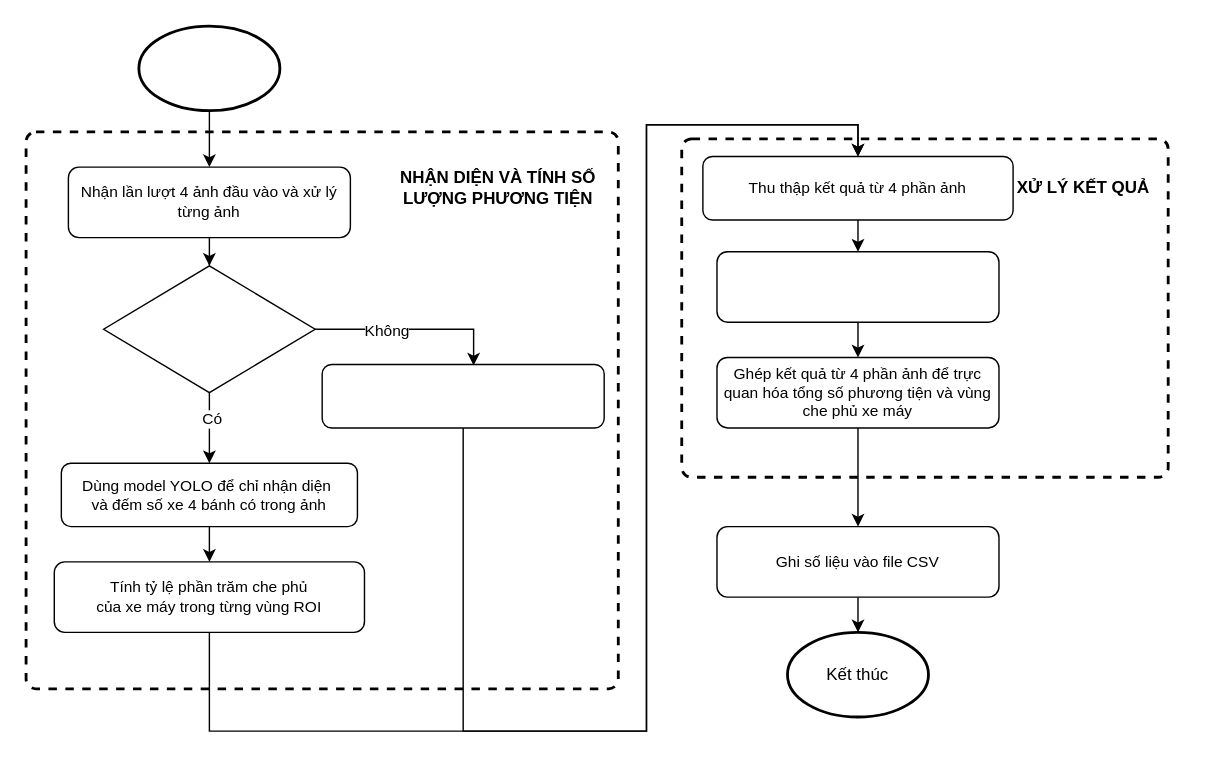
The diagram is 1220 pixels wide and 767 high, and some of its shapes have lost their labels. The shapes that lost their labels are listed below. From the top down, each one's box as (x1, y1, x2, y2) in pixels, then its label:
(137, 24, 281, 111): Bắt đầu
(716, 250, 999, 322): Loại bỏ phát hiện trùng lập các phương tiện ở các rìa của ảnh
(102, 264, 315, 393): Phần ảnh hiện tại có được cấu hình phân vùng ROI ?
(321, 363, 604, 428): Dùng YOLO để nhận diện xe 2 bánh - xe 4 bánh và đếm số lượng
